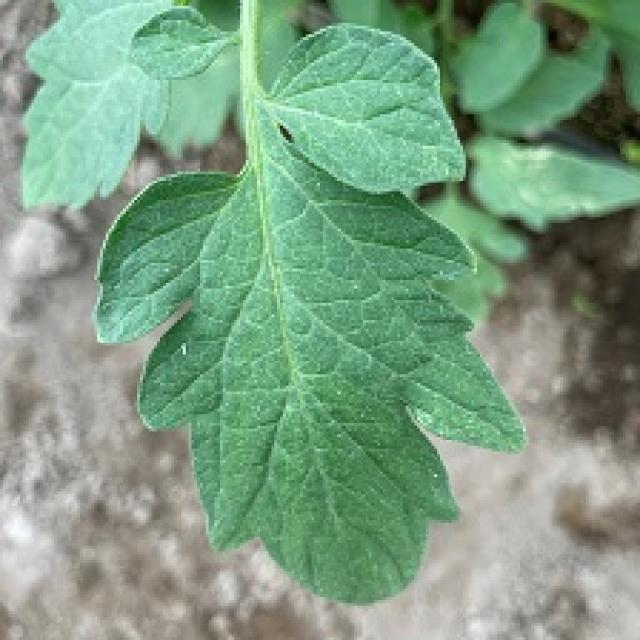Healthy: (32, 3, 577, 640), (16, 0, 171, 210), (120, 0, 242, 102)
